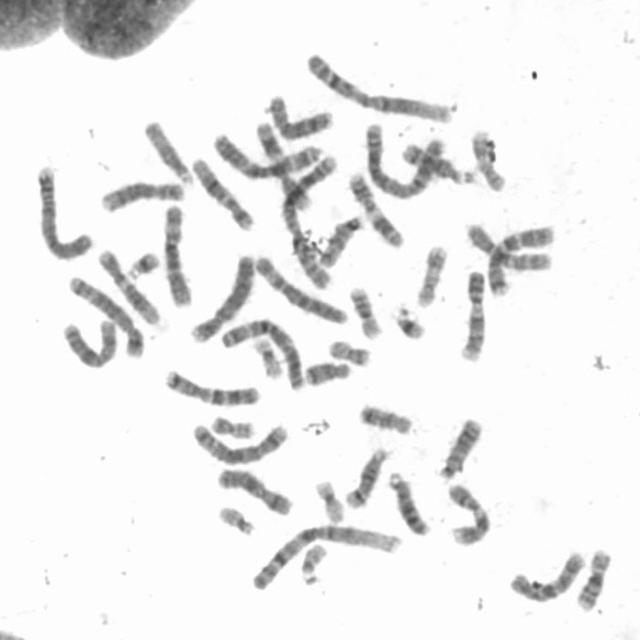A1: (302, 47, 457, 125), (245, 518, 404, 592)
A2: (278, 148, 340, 292), (362, 116, 447, 200)
A3: (215, 312, 308, 392), (209, 127, 324, 180)
B4: (187, 248, 257, 344), (31, 159, 96, 262)
B5: (62, 269, 148, 360), (188, 418, 290, 467)
C10: (461, 217, 555, 273), (503, 545, 590, 605)
C11: (251, 116, 314, 212), (343, 166, 408, 250)
C12: (94, 244, 164, 326), (186, 152, 256, 232)
C6: (249, 248, 349, 326), (158, 198, 196, 308)
C7: (483, 220, 558, 298), (160, 364, 264, 408)
C8: (264, 90, 337, 142), (96, 174, 188, 215)
C9: (444, 478, 493, 548), (454, 264, 488, 364)
D13: (434, 412, 485, 481), (383, 466, 432, 537)
D14: (398, 138, 479, 186), (340, 442, 391, 510)
D15: (140, 114, 197, 186), (315, 210, 367, 268)
E16: (571, 543, 615, 613), (345, 281, 385, 341)
E17: (467, 124, 509, 193), (411, 239, 450, 309)
E18: (354, 398, 415, 436), (300, 355, 354, 388)
F19: (249, 330, 286, 380), (310, 474, 347, 524)
F20: (324, 334, 373, 368), (207, 410, 258, 440)
G21: (389, 300, 429, 342), (122, 244, 163, 280)
G22: (296, 538, 330, 586), (214, 500, 257, 537)
X: (213, 462, 295, 517), (58, 313, 119, 371)
